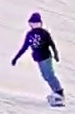snowboarder: (11, 12, 67, 107)
